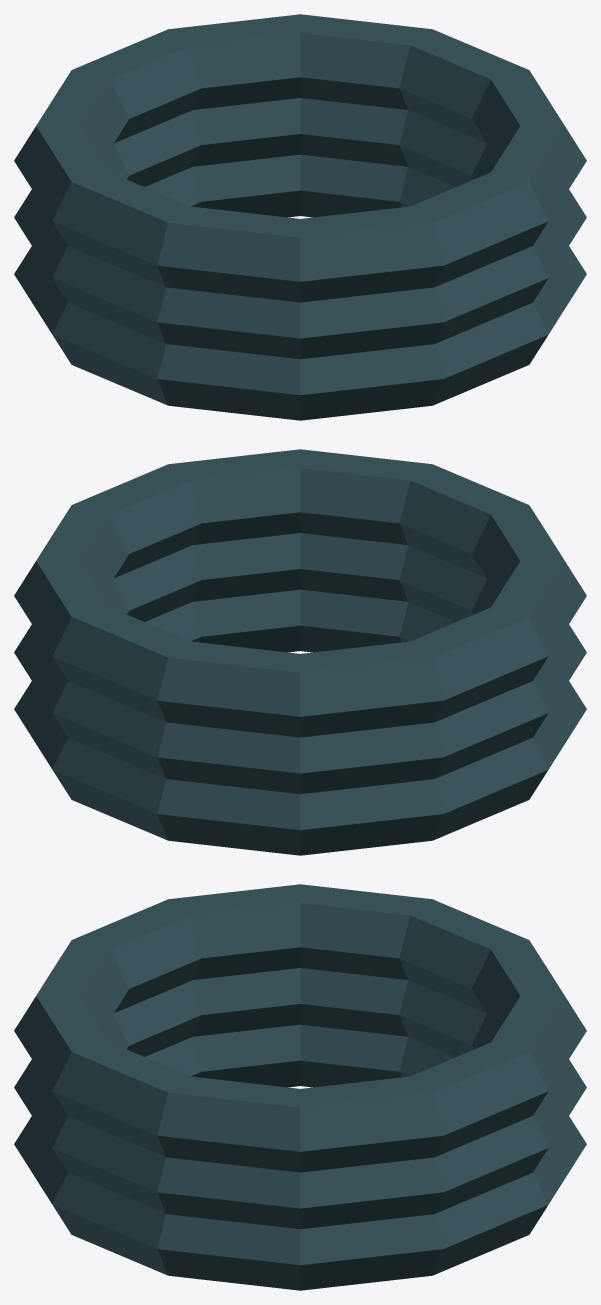
Rendered from gasket-stack.glb.
3 renders of one model, top to bottom at view 1: azimuth 30°, elevation 25°; view 2: azimuth 150°, elevation 25°; view 3: azimuth 270°, elevation 25°, orthographic.
Visible parts, largest first — view 1: gasket-stack__body; view 2: gasket-stack__body; view 3: gasket-stack__body.
Boxes of the visible parts, x1,y1,x2,y2 form: gasket-stack__body: (14, 14, 586, 420); gasket-stack__body: (14, 449, 586, 855); gasket-stack__body: (14, 884, 586, 1290).
Bounding box in the file's own units: 0.284 × 0.1001 × 0.284.
